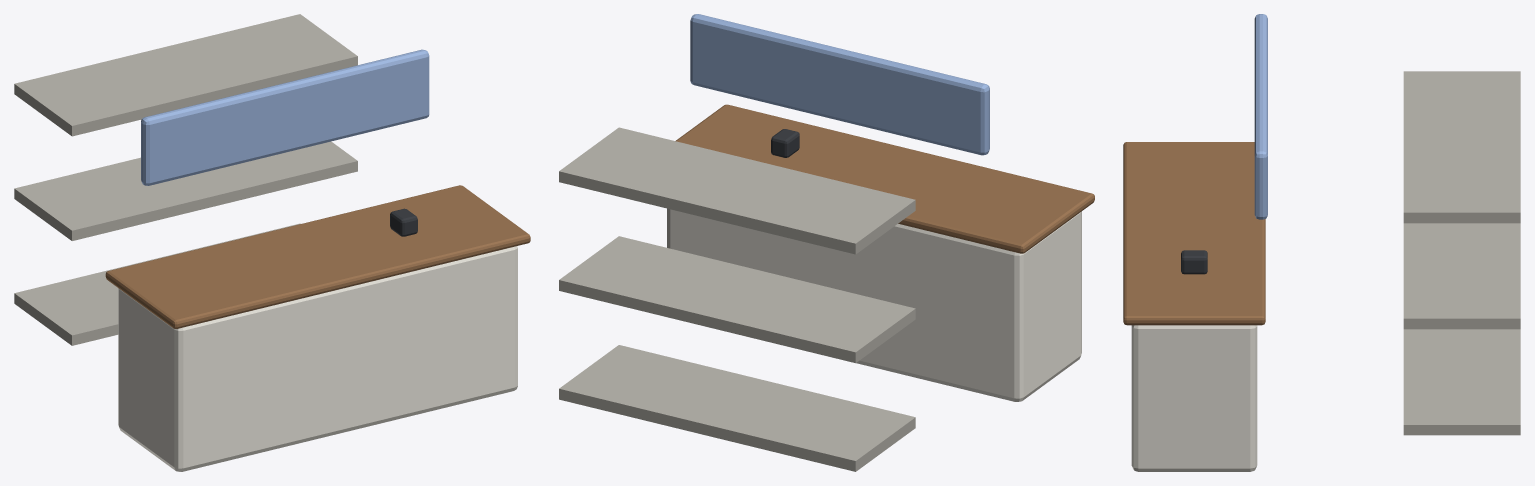
File: LuggageCounter_blockout.glb
3 renders of one model, left to right at view 1: azimuth 30°, elevation 25°; view 2: azimuth 150°, elevation 25°; view 3: azimuth 270°, elevation 25°, orthographic. The views are drawn at different scales.
Parts seen in each view (by area): view 1: SF04_LuggageCounter_Counter_L0, SF04_LuggageCounter_CounterTop_L0, SF04_LuggageCounter_Sign_L0, SF04_LuggageCounter_StorageShelf2_L0, SF04_LuggageCounter_StorageShelf1_L0, SF04_LuggageCounter_StorageShelf0_L0, SF04_LuggageCounter_Scanner_L0; view 2: SF04_LuggageCounter_Counter_L0, SF04_LuggageCounter_Sign_L0, SF04_LuggageCounter_CounterTop_L0, SF04_LuggageCounter_StorageShelf2_L0, SF04_LuggageCounter_StorageShelf1_L0, SF04_LuggageCounter_StorageShelf0_L0, SF04_LuggageCounter_Scanner_L0; view 3: SF04_LuggageCounter_CounterTop_L0, SF04_LuggageCounter_Counter_L0, SF04_LuggageCounter_StorageShelf2_L0, SF04_LuggageCounter_StorageShelf0_L0, SF04_LuggageCounter_StorageShelf1_L0, SF04_LuggageCounter_Sign_L0, SF04_LuggageCounter_Scanner_L0.
Part boxes in pixels (x1,y1,x2,y2): SF04_LuggageCounter_Counter_L0: (118, 246, 517, 471); SF04_LuggageCounter_CounterTop_L0: (105, 185, 530, 328); SF04_LuggageCounter_Sign_L0: (141, 49, 429, 185); SF04_LuggageCounter_StorageShelf2_L0: (14, 14, 357, 136); SF04_LuggageCounter_StorageShelf1_L0: (14, 141, 357, 240); SF04_LuggageCounter_StorageShelf0_L0: (14, 223, 300, 345); SF04_LuggageCounter_Scanner_L0: (390, 208, 417, 236); SF04_LuggageCounter_Counter_L0: (667, 208, 1081, 401); SF04_LuggageCounter_Sign_L0: (690, 14, 989, 155); SF04_LuggageCounter_CounterTop_L0: (675, 104, 1094, 253); SF04_LuggageCounter_StorageShelf2_L0: (559, 127, 915, 254); SF04_LuggageCounter_StorageShelf1_L0: (559, 236, 915, 363); SF04_LuggageCounter_StorageShelf0_L0: (559, 345, 915, 471); SF04_LuggageCounter_Scanner_L0: (771, 129, 799, 157); SF04_LuggageCounter_CounterTop_L0: (1123, 142, 1265, 325); SF04_LuggageCounter_Counter_L0: (1131, 325, 1257, 471); SF04_LuggageCounter_StorageShelf2_L0: (1403, 71, 1520, 223); SF04_LuggageCounter_StorageShelf0_L0: (1403, 329, 1520, 435); SF04_LuggageCounter_StorageShelf1_L0: (1403, 223, 1520, 329); SF04_LuggageCounter_Sign_L0: (1254, 14, 1267, 219); SF04_LuggageCounter_Scanner_L0: (1181, 250, 1207, 274).
Bounding box in the file's own units: 2.5 × 2.02 × 2.37.
